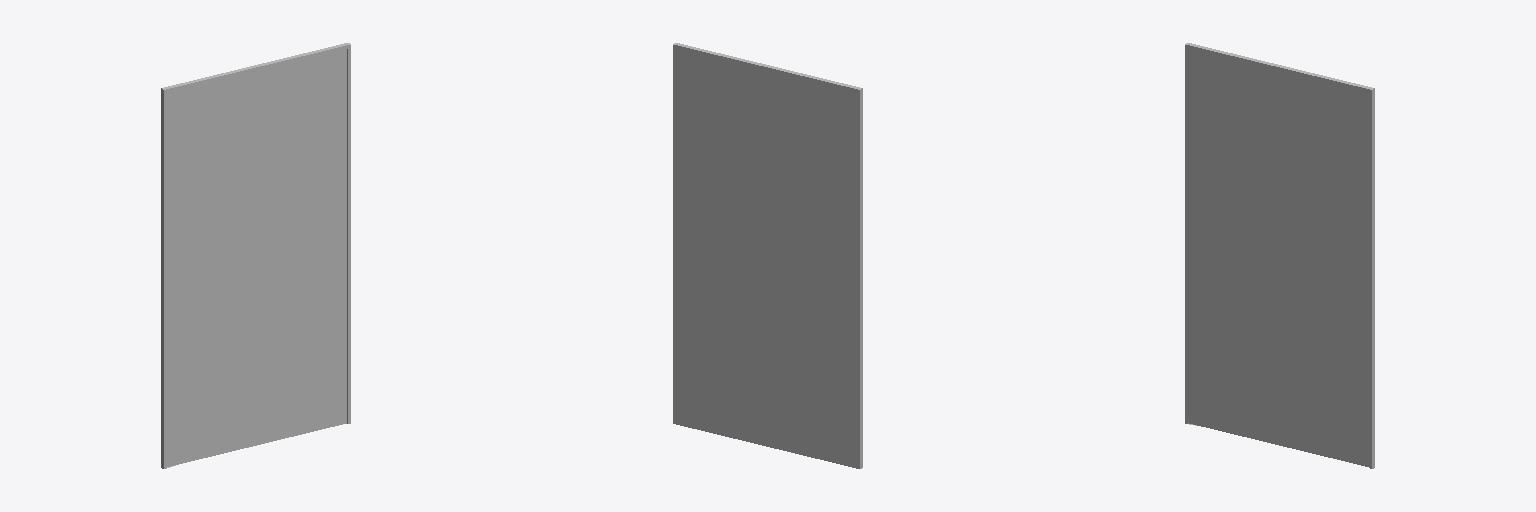
File: EscapeRoom_doorframe.obj
3 views of the same model, side by side, from view 1: azimuth 30°, elevation 25°; view 2: azimuth 150°, elevation 25°; view 3: azimuth 330°, elevation 25° (orthographic).
Visible parts, largest first — view 1: Mesh1 Model; view 2: Mesh1 Model; view 3: Mesh1 Model.
Boxes of the visible parts, <box> form: Mesh1 Model: <box>161,43,350,468</box>; Mesh1 Model: <box>673,43,862,468</box>; Mesh1 Model: <box>1185,43,1374,468</box>.
Bounding box in the file's own units: 1.1 × 2.12 × 0.026.